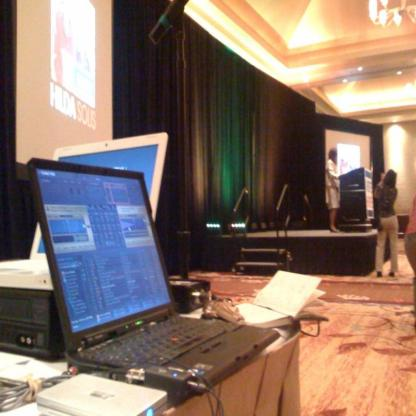board: (27, 153, 279, 392), (2, 134, 167, 288), (38, 373, 168, 415)
